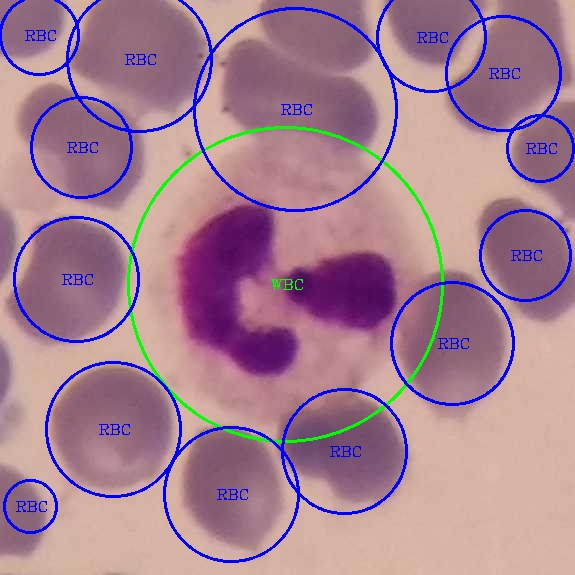RBC: (217, 34, 389, 150), (440, 0, 572, 143), (11, 82, 152, 211), (398, 268, 512, 425), (275, 393, 418, 514), (47, 364, 179, 494), (0, 215, 132, 345), (72, 0, 209, 116), (176, 421, 284, 554), (471, 194, 573, 329), (254, 0, 378, 76), (506, 92, 574, 224), (375, 1, 492, 76)
WBC: (137, 130, 417, 398)
